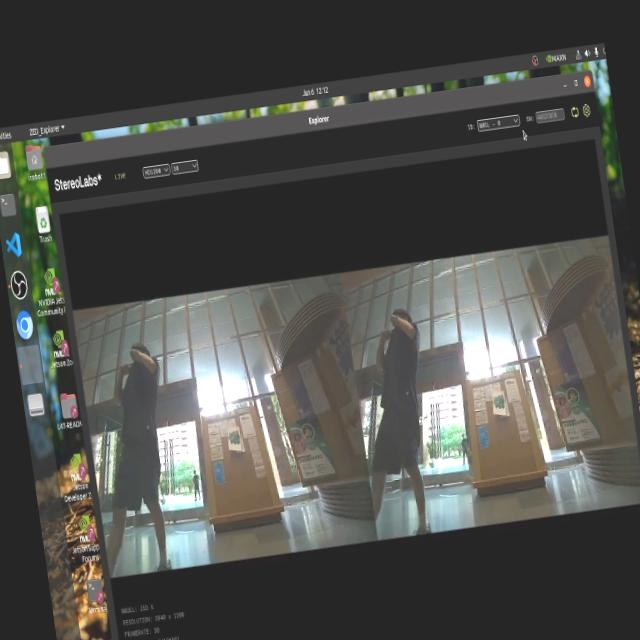green: (494, 387, 514, 420), (227, 428, 243, 451)
